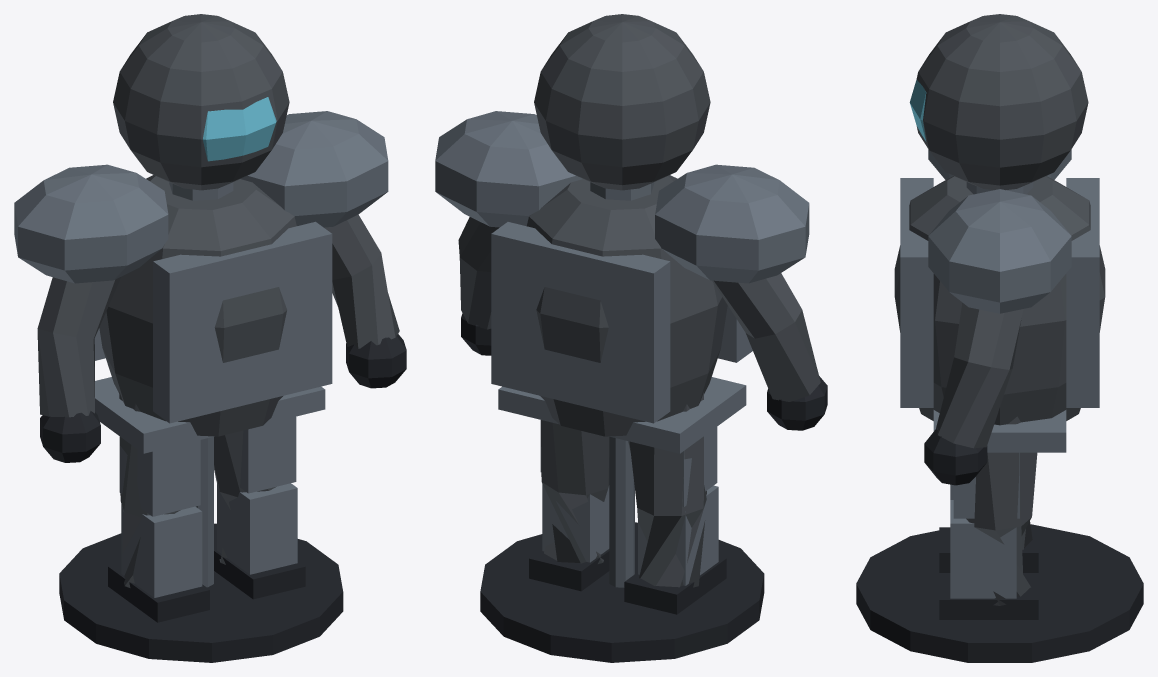
Rendered from assault-armor.glb.
3 views of the same model, side by side, from view 1: azimuth 30°, elevation 25°; view 2: azimuth 150°, elevation 25°; view 3: azimuth 270°, elevation 25° (orthographic).
Parts seen in each view (by area): view 1: m; view 2: m; view 3: m.
Boxes of the visible parts, x1=… form: m: x1=14, y1=14, x2=406, y2=662; m: x1=435, y1=14, x2=827, y2=662; m: x1=856, y1=14, x2=1143, y2=662.
Size of the model in its own units: 0.3701 by 0.56 by 0.251.
